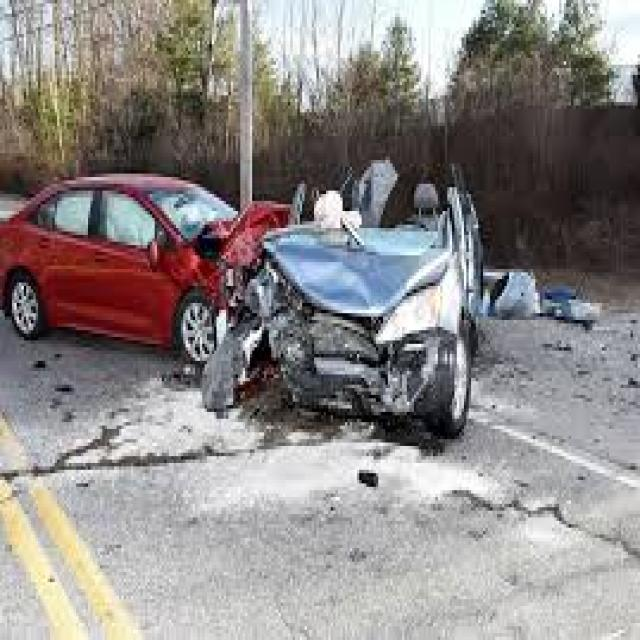accident: (25, 152, 498, 449)
